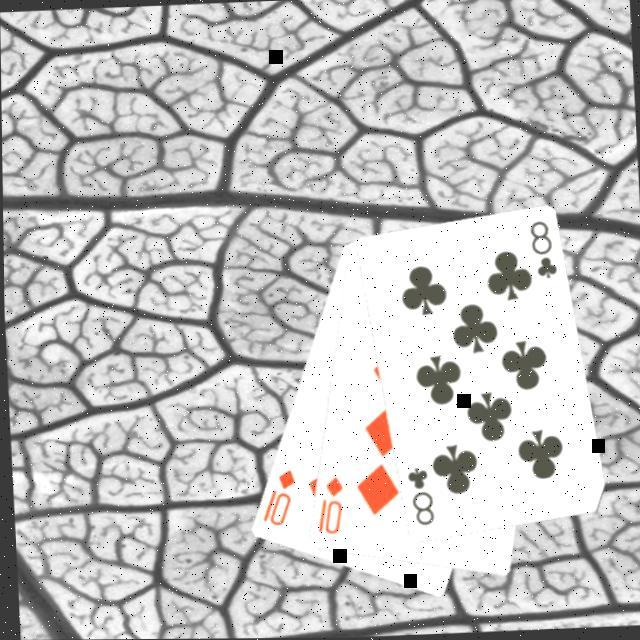10D: (254, 465, 296, 528), (308, 472, 344, 536)
8C: (400, 462, 435, 528), (524, 216, 558, 281)
